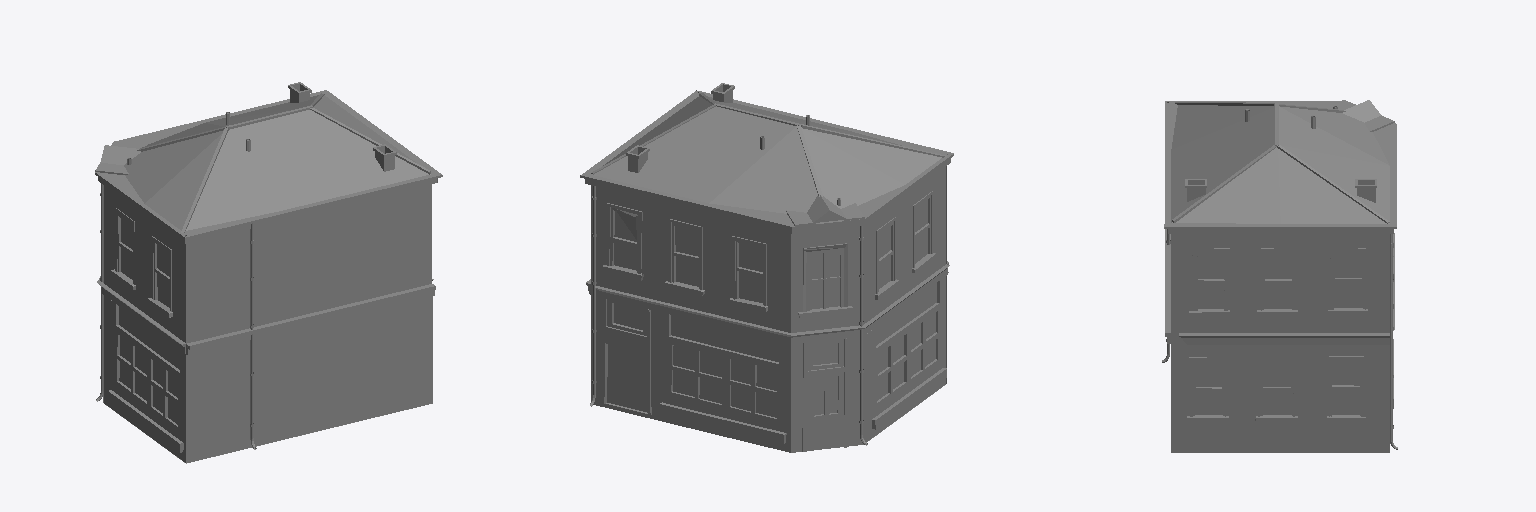
Rendered from Edificio3.obj.
3 renders of one model, left to right at view 1: azimuth 30°, elevation 25°; view 2: azimuth 150°, elevation 25°; view 3: azimuth 270°, elevation 25°, orthographic.
Visible parts, largest first — view 1: house_01; view 2: house_01; view 3: house_01.
Boxes of the visible parts, x1,y1,x2,y2 form: house_01: [95, 82, 442, 463]; house_01: [580, 83, 953, 452]; house_01: [1162, 100, 1397, 452].
Bounding box in the file's own units: 165 × 168 × 130.